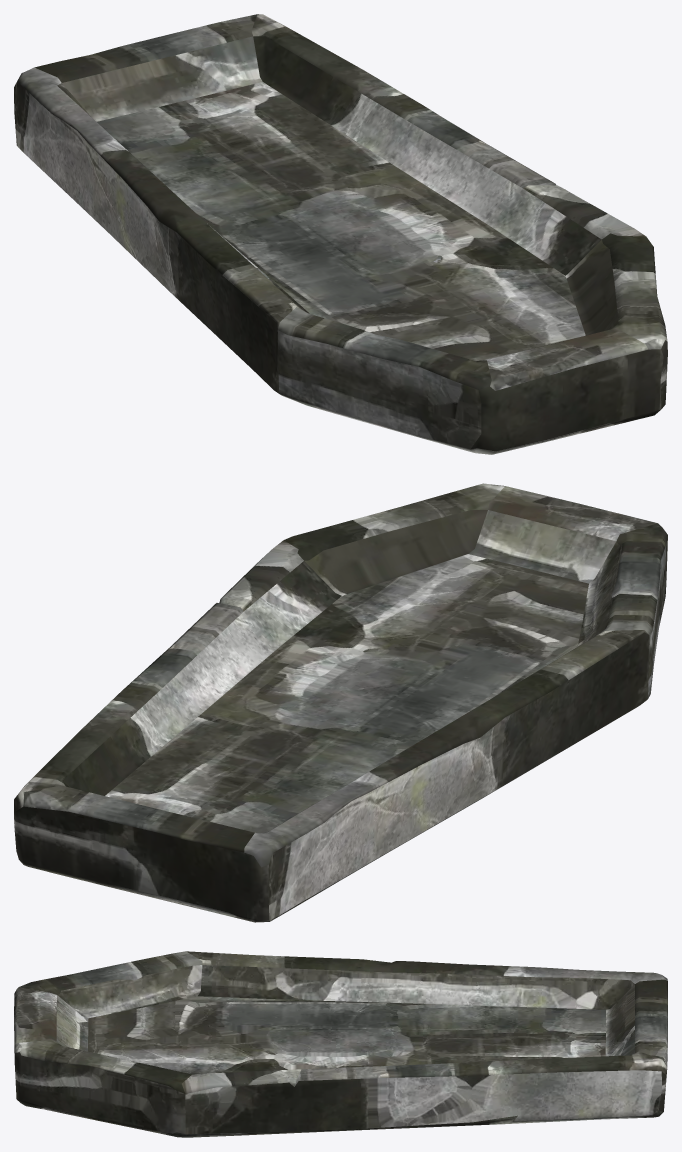
The picture shows the model from 3 angles, top to bottom: view 1: azimuth 30°, elevation 25°; view 2: azimuth 150°, elevation 25°; view 3: azimuth 270°, elevation 25°; orthographic projection. The views are drawn at different scales.
Visible parts, largest first — view 1: SM_Coffin_01v2_LOD0; view 2: SM_Coffin_01v2_LOD0; view 3: SM_Coffin_01v2_LOD0.
Part boxes in pixels (x1,y1,x2,y2): SM_Coffin_01v2_LOD0: (14,14,667,454); SM_Coffin_01v2_LOD0: (14,483,667,922); SM_Coffin_01v2_LOD0: (14,951,667,1137).
Bounding box in the file's own units: 1.13 × 0.2248 × 2.31.
